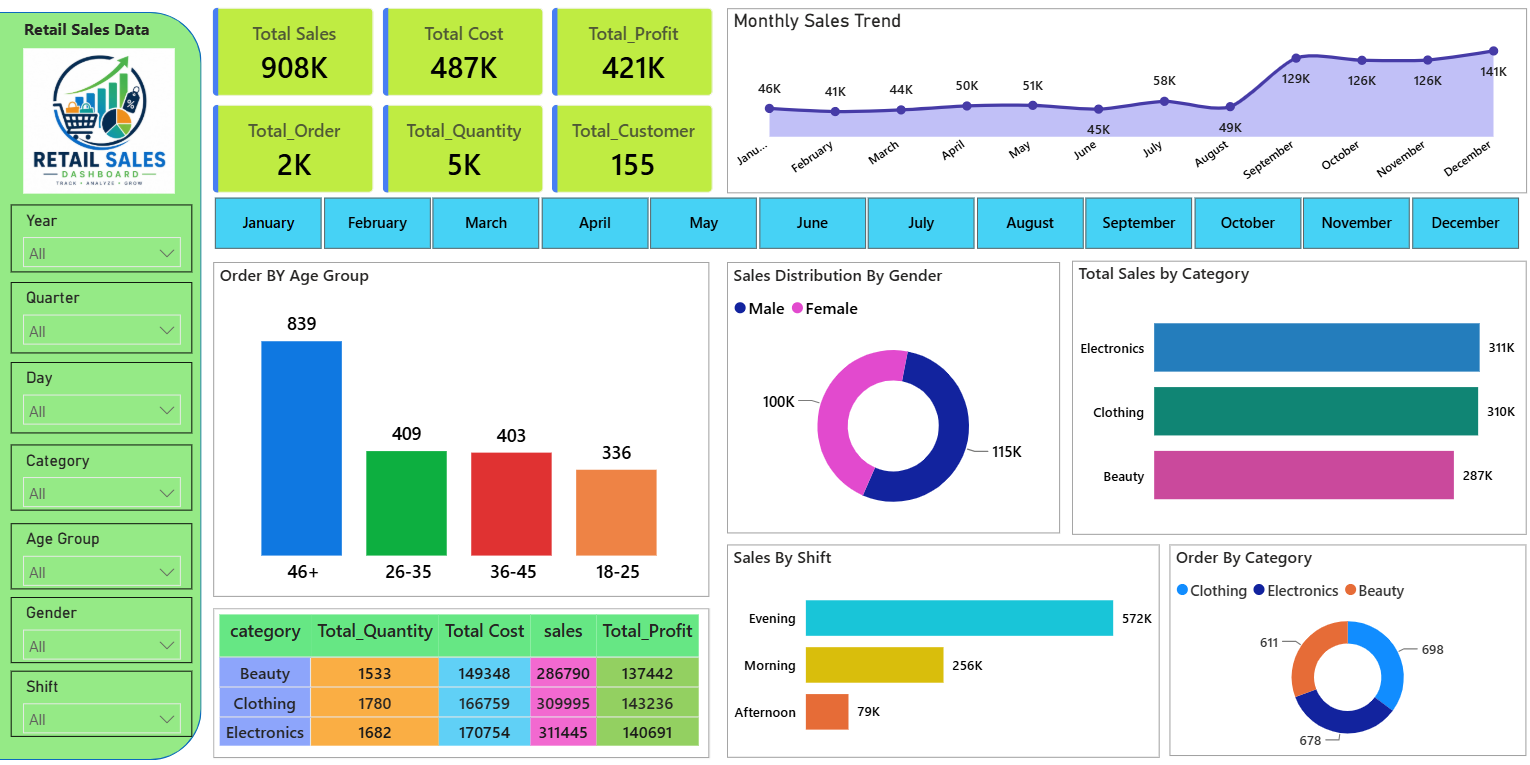

This screenshot's page, from the dashboard's own definition file:
{"tool":"powerbi","page":{"name":"Retail","canvas":[1400,725],"ordinal":0},"visuals":[{"type":"cardVisual","fields":{"Data":["Retail Sales.sales","Retail Sales.Total Cost","Retail Sales.Total_Profit","Retail Sales.Total_Order","Retail Sales.Total_Quantity","Retail Sales.Total_Customer"]},"box":[184.4,20.3,478.2,192],"z":0},{"type":"shape","box":[0,36.2,185.8,679.2],"z":1000},{"type":"textbox","box":[19.3,36.2,141.2,67.6],"z":2000},{"type":"lineChart","title":"Monthly Sales Trend","fields":{"Category":["Retail Sales.sale_date.Variation.Date Hierarchy.Month","Retail Sales.sale_date.Variation.Date Hierarchy.Day"],"Y":["Retail Sales.sales"]},"box":[662.8,32.9,726.4,168],"z":3000},{"type":"clusteredBarChart","title":"Total Sales by Category","fields":{"Category":["Retail Sales.category"],"Y":["Retail Sales.sales"]},"box":[976.1,262.2,413.1,248.6],"z":4000},{"type":"donutChart","title":"Sales Distribution By Gender","fields":{"Category":["Retail Sales.gender"],"Y":["Retail Sales.sales"]},"box":[662.6,263.3,302.7,246.7],"z":5000},{"type":"pivotTable","fields":{"Rows":["Retail Sales.category"],"Values":["Retail Sales.Total_Quantity","Retail Sales.Total Cost","Retail Sales.sales","Retail Sales.Total_Profit"]},"box":[195.9,577.4,450.2,136.1],"z":6000},{"type":"donutChart","title":"Order By Category","fields":{"Category":["Retail Sales.category"],"Y":["Retail Sales.Total_Order"]},"box":[1064.5,520.2,324.3,192],"z":7000},{"type":"slicer","fields":{"Values":["Retail Sales.sale_date.Variation.Date Hierarchy.Year"]},"box":[12,211.6,165.1,61.5],"z":8000},{"type":"slicer","fields":{"Values":["Retail Sales.sale_date.Variation.Date Hierarchy.Quarter"]},"box":[12,281,165.1,64.5],"z":9000},{"type":"slicer","fields":{"Values":["Retail Sales.sale_date.Variation.Date Hierarchy.Day"]},"box":[12,354,165.1,64.5],"z":10000},{"type":"slicer","fields":{"Values":["Retail Sales.Age Group"]},"box":[12,500,165.1,60],"z":11000},{"type":"image","box":[10.5,69,165.1,132.1],"z":12000},{"type":"slicer","fields":{"Values":["Retail Sales.sale_date.Variation.Date Hierarchy.Month"]},"box":[177.1,200.9,1223.5,54.5],"z":13000},{"type":"slicer","fields":{"Values":["Retail Sales.gender"]},"box":[12,567,165.1,60],"z":14000},{"type":"slicer","fields":{"Values":["Retail Sales.category"]},"box":[12,429,165.1,60],"z":15000},{"type":"slicer","fields":{"Values":["Retail Sales.Shift"]},"box":[12,635,165.1,60],"z":16000},{"type":"clusteredColumnChart","title":"Order BY Age Group","fields":{"Y":["Retail Sales.Total_Order"],"Category":["Retail Sales.Age Group"]},"box":[195.9,263.3,450.2,304],"z":17000},{"type":"clusteredBarChart","title":"Sales By Shift","fields":{"Category":["Retail Sales.Shift"],"Y":["Retail Sales.sales"]},"box":[662.6,520.2,393,193.3],"z":18000}]}

Visuals, with their boxes in screenshot pixels (x1, y1, x2, y2):
cardVisual - Retail Sales.sales x Retail Sales.Total Cost: (left=203, top=0, right=719, bottom=205)
shape: (left=4, top=15, right=204, bottom=748)
textbox: (left=25, top=15, right=177, bottom=88)
"Monthly Sales Trend" lineChart: (left=719, top=12, right=1503, bottom=193)
"Total Sales by Category" clusteredBarChart: (left=1057, top=259, right=1503, bottom=527)
"Sales Distribution By Gender" donutChart: (left=719, top=260, right=1045, bottom=526)
pivotTable - Retail Sales.category x Retail Sales.Total_Quantity: (left=215, top=599, right=701, bottom=746)
"Order By Category" donutChart: (left=1152, top=537, right=1502, bottom=744)
slicer - Retail Sales.sale_date.Variation.Date Hierarchy.Year: (left=17, top=204, right=195, bottom=271)
slicer - Retail Sales.sale_date.Variation.Date Hierarchy.Quarter: (left=17, top=279, right=195, bottom=349)
slicer - Retail Sales.sale_date.Variation.Date Hierarchy.Day: (left=17, top=358, right=195, bottom=428)
slicer - Retail Sales.Age Group: (left=17, top=516, right=195, bottom=580)
image: (left=15, top=51, right=193, bottom=193)
slicer - Retail Sales.sale_date.Variation.Date Hierarchy.Month: (left=195, top=193, right=1515, bottom=252)
slicer - Retail Sales.gender: (left=17, top=588, right=195, bottom=653)
slicer - Retail Sales.category: (left=17, top=439, right=195, bottom=504)
slicer - Retail Sales.Shift: (left=17, top=661, right=195, bottom=726)
"Order BY Age Group" clusteredColumnChart: (left=215, top=260, right=701, bottom=588)
"Sales By Shift" clusteredBarChart: (left=719, top=537, right=1143, bottom=746)
